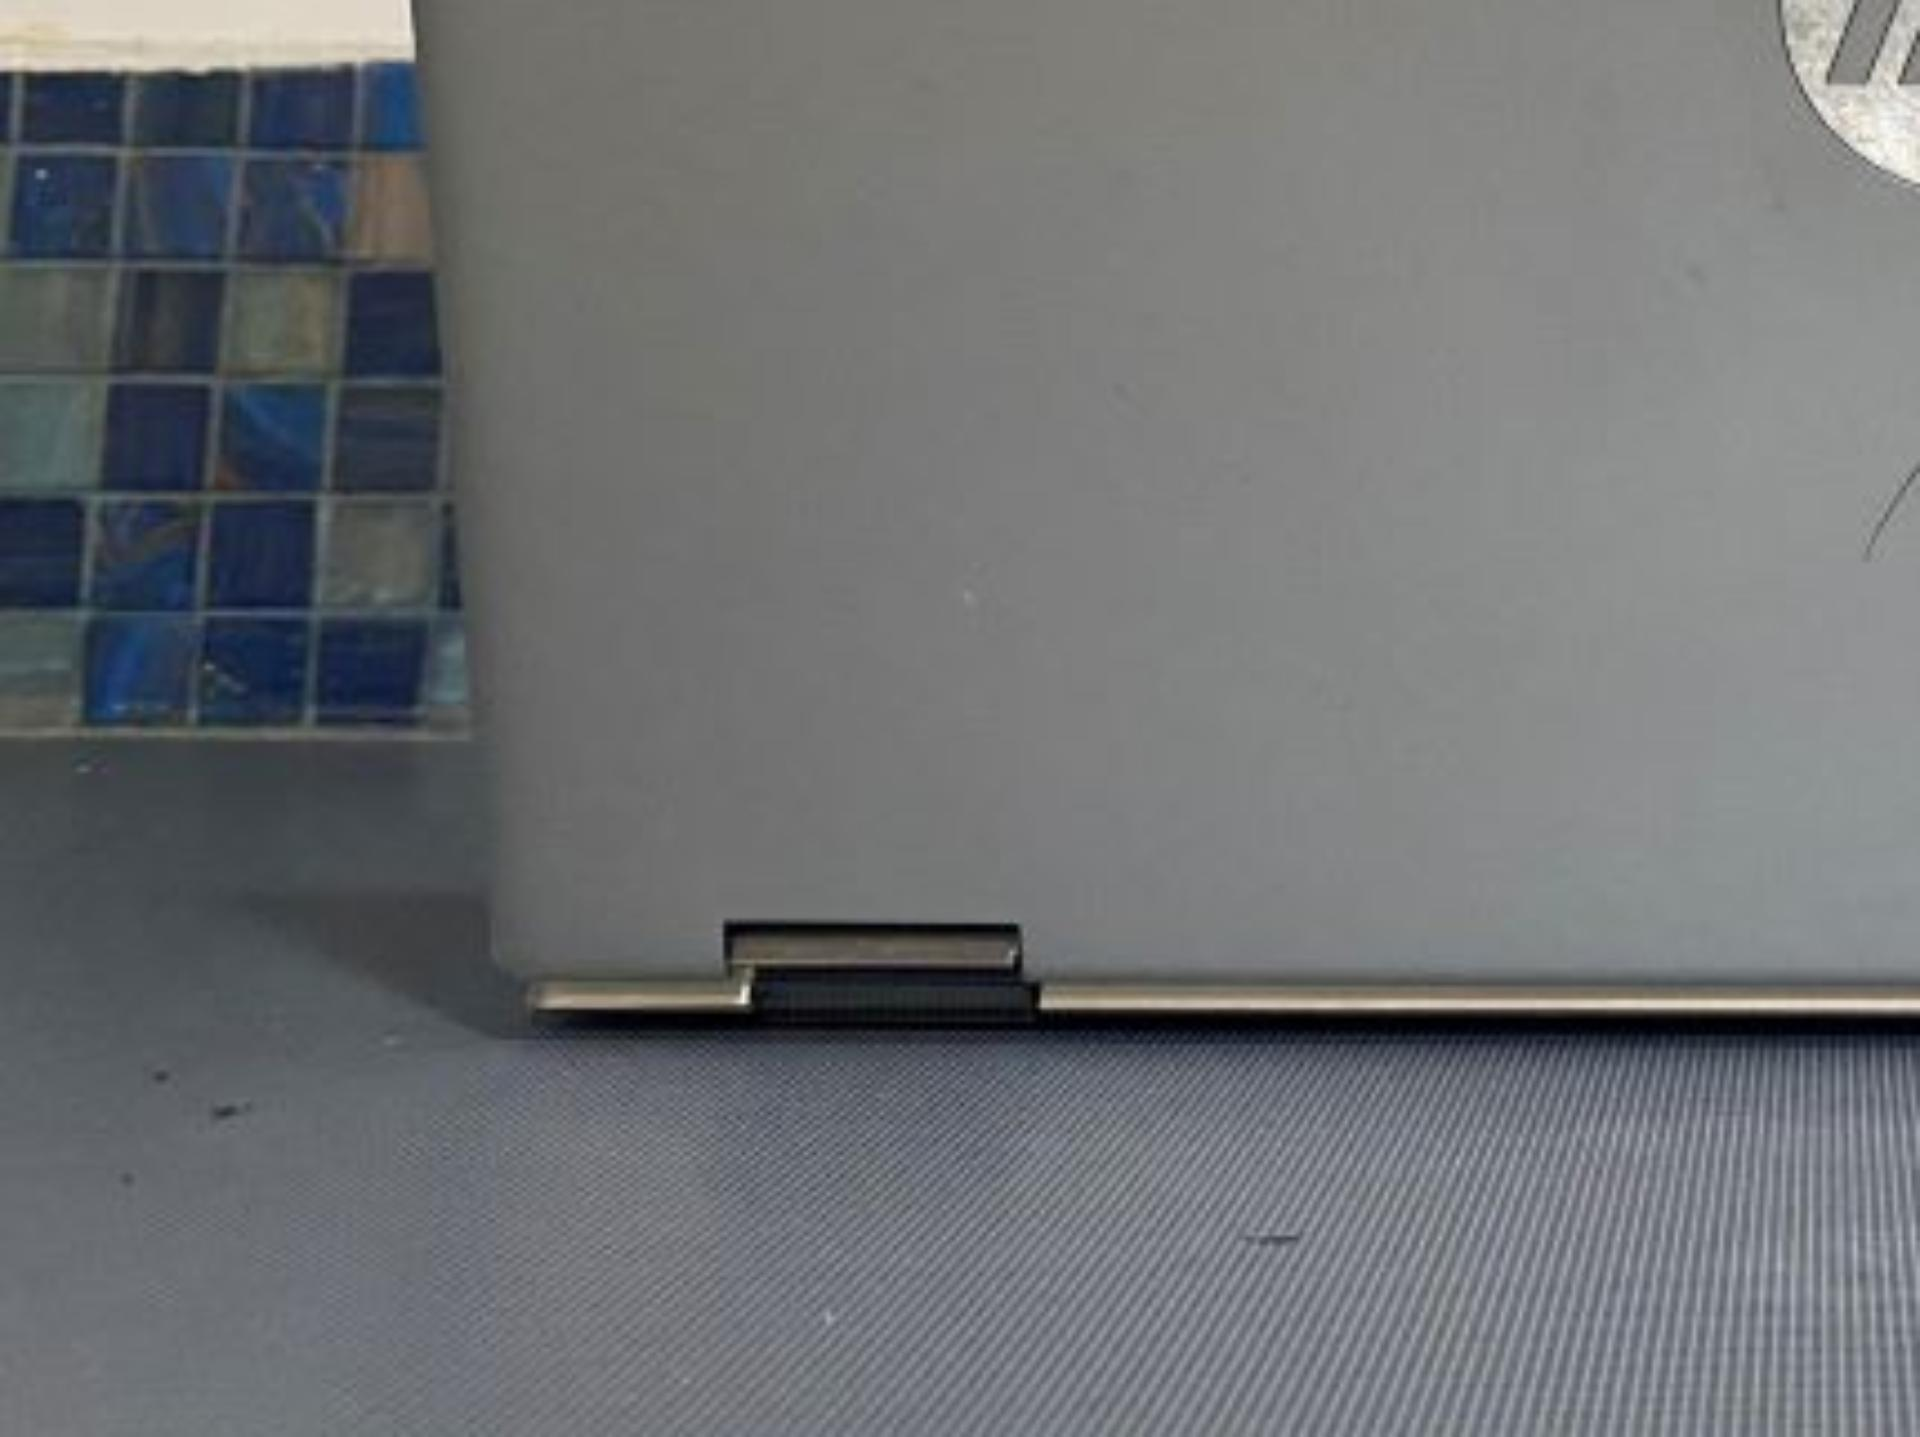scratches: (1867, 448, 1920, 558)
